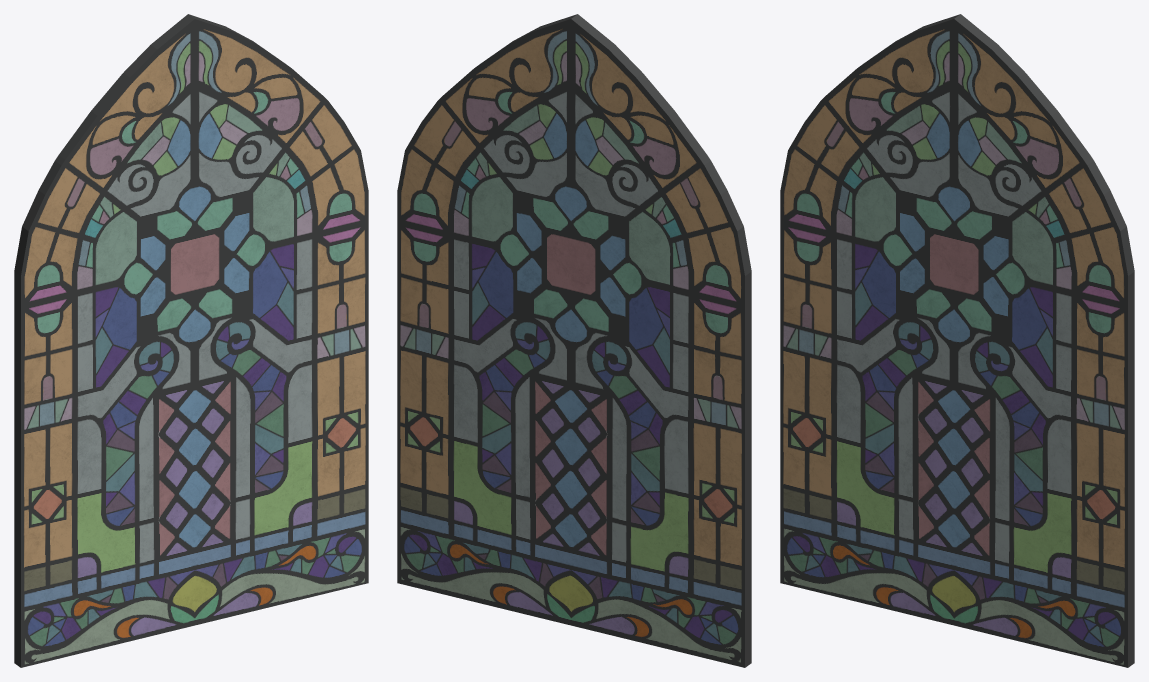
The model's file is sb_obj_outdoor020_Stainedglass_01.fbx.
3 views of the same model, side by side, from view 1: azimuth 30°, elevation 25°; view 2: azimuth 150°, elevation 25°; view 3: azimuth 330°, elevation 25° (orthographic).
Visible parts, largest first — view 1: stainedglass_01; view 2: stainedglass_01; view 3: stainedglass_01.
Part boxes in pixels (<box>): stainedglass_01: <box>14,14,368,667</box>; stainedglass_01: <box>397,14,751,667</box>; stainedglass_01: <box>780,14,1134,667</box>.
Size of the model in its own units: 3 by 5 by 0.1.
